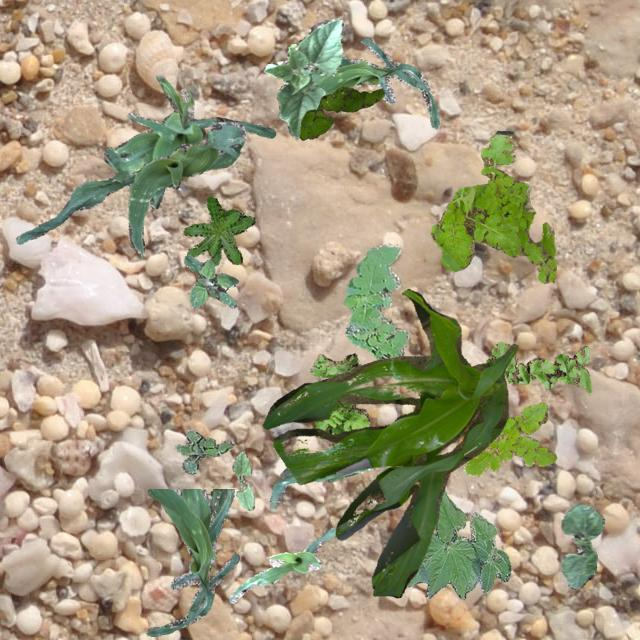crop: (262, 288, 516, 596), (14, 120, 244, 256), (103, 74, 274, 208), (146, 488, 238, 636), (310, 36, 438, 128), (404, 489, 510, 598), (262, 17, 342, 138), (268, 432, 388, 508), (228, 526, 336, 602), (560, 502, 602, 588), (232, 450, 254, 510)
weed: (430, 130, 556, 282), (344, 243, 408, 379), (462, 402, 556, 474), (485, 342, 589, 392), (182, 194, 254, 264), (308, 352, 368, 433), (298, 85, 384, 138), (182, 254, 238, 308), (174, 428, 232, 472)
